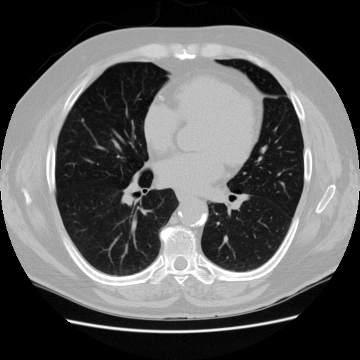nodule: (80, 118, 84, 122)
